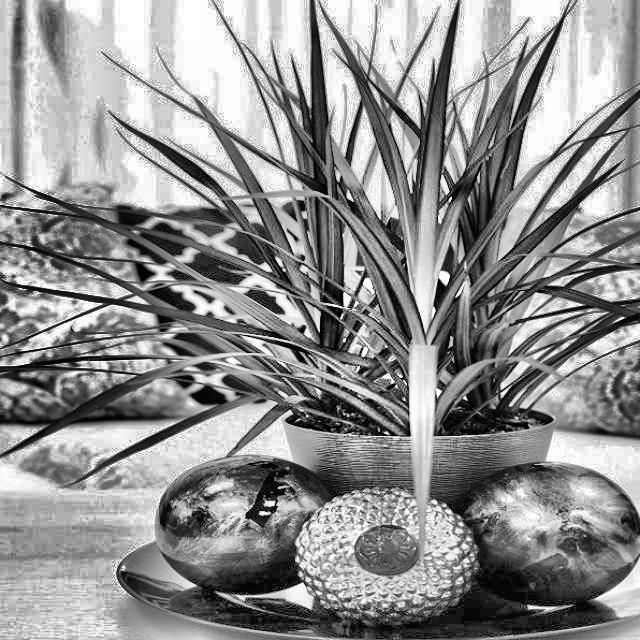plants: (95, 30, 634, 425)
